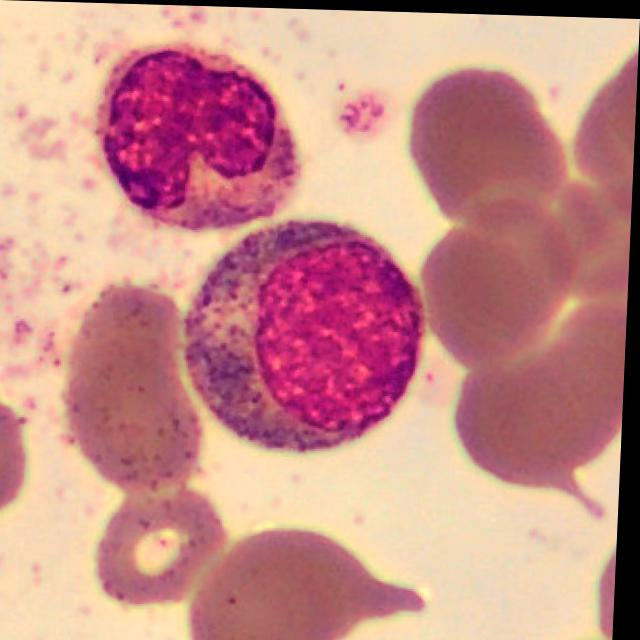Metamielocito: (100, 44, 300, 229)
Promielocito: (186, 219, 424, 454)
